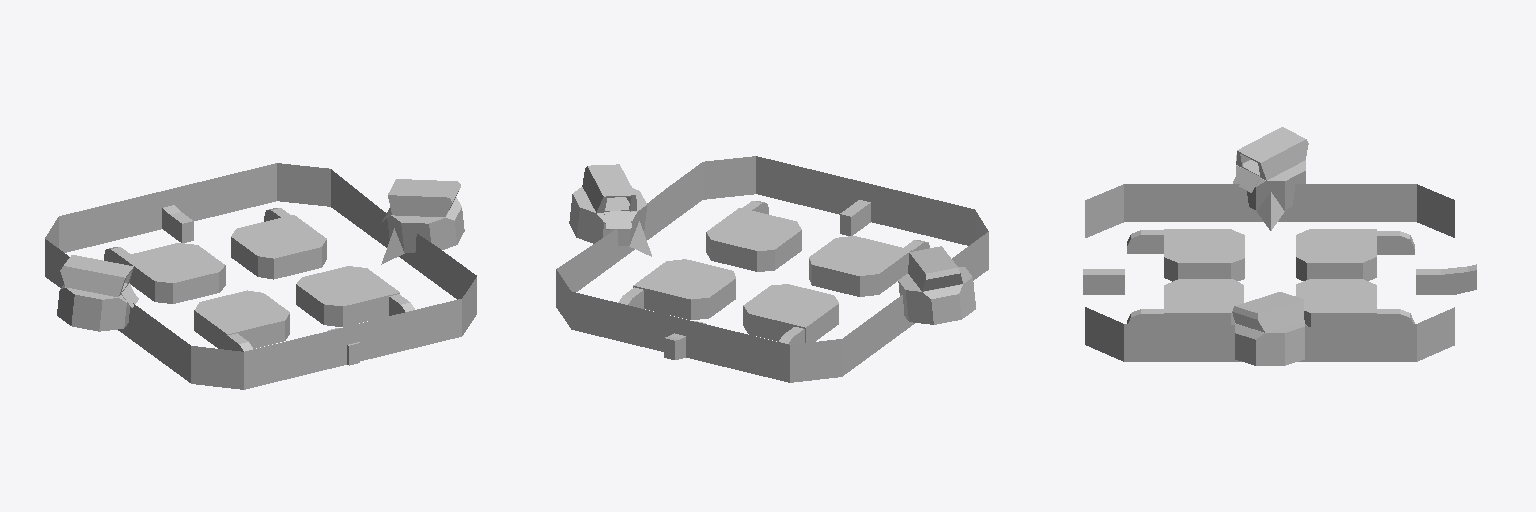
Rendered from DepotMinistatic.obj.
3 views of the same model, side by side, from view 1: azimuth 30°, elevation 25°; view 2: azimuth 150°, elevation 25°; view 3: azimuth 270°, elevation 25° (orthographic).
Parts seen in each view (by area): view 1: collision; view 2: collision; view 3: collision.
Boxes of the visible parts, <box> form: collision: <box>45,163,476,389</box>; collision: <box>556,156,988,382</box>; collision: <box>1083,127,1476,365</box>.
Size of the model in its own units: 53.17 by 9.31 by 46.24.